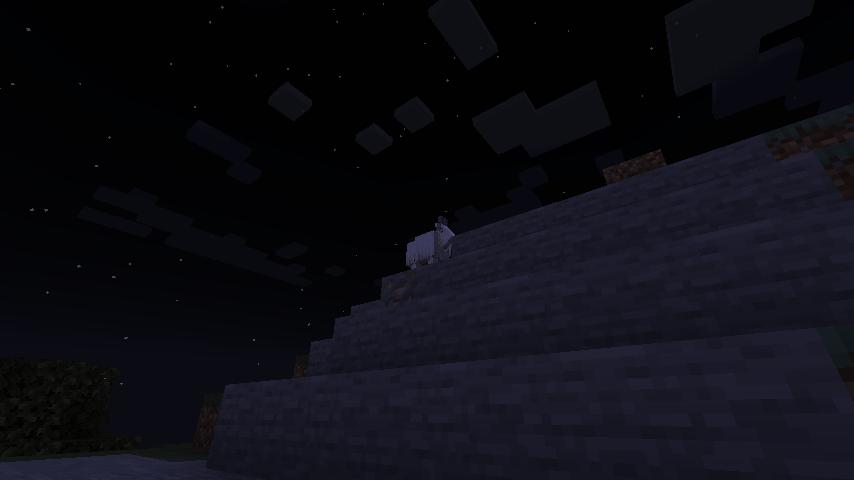goat: (403, 212, 458, 270)
